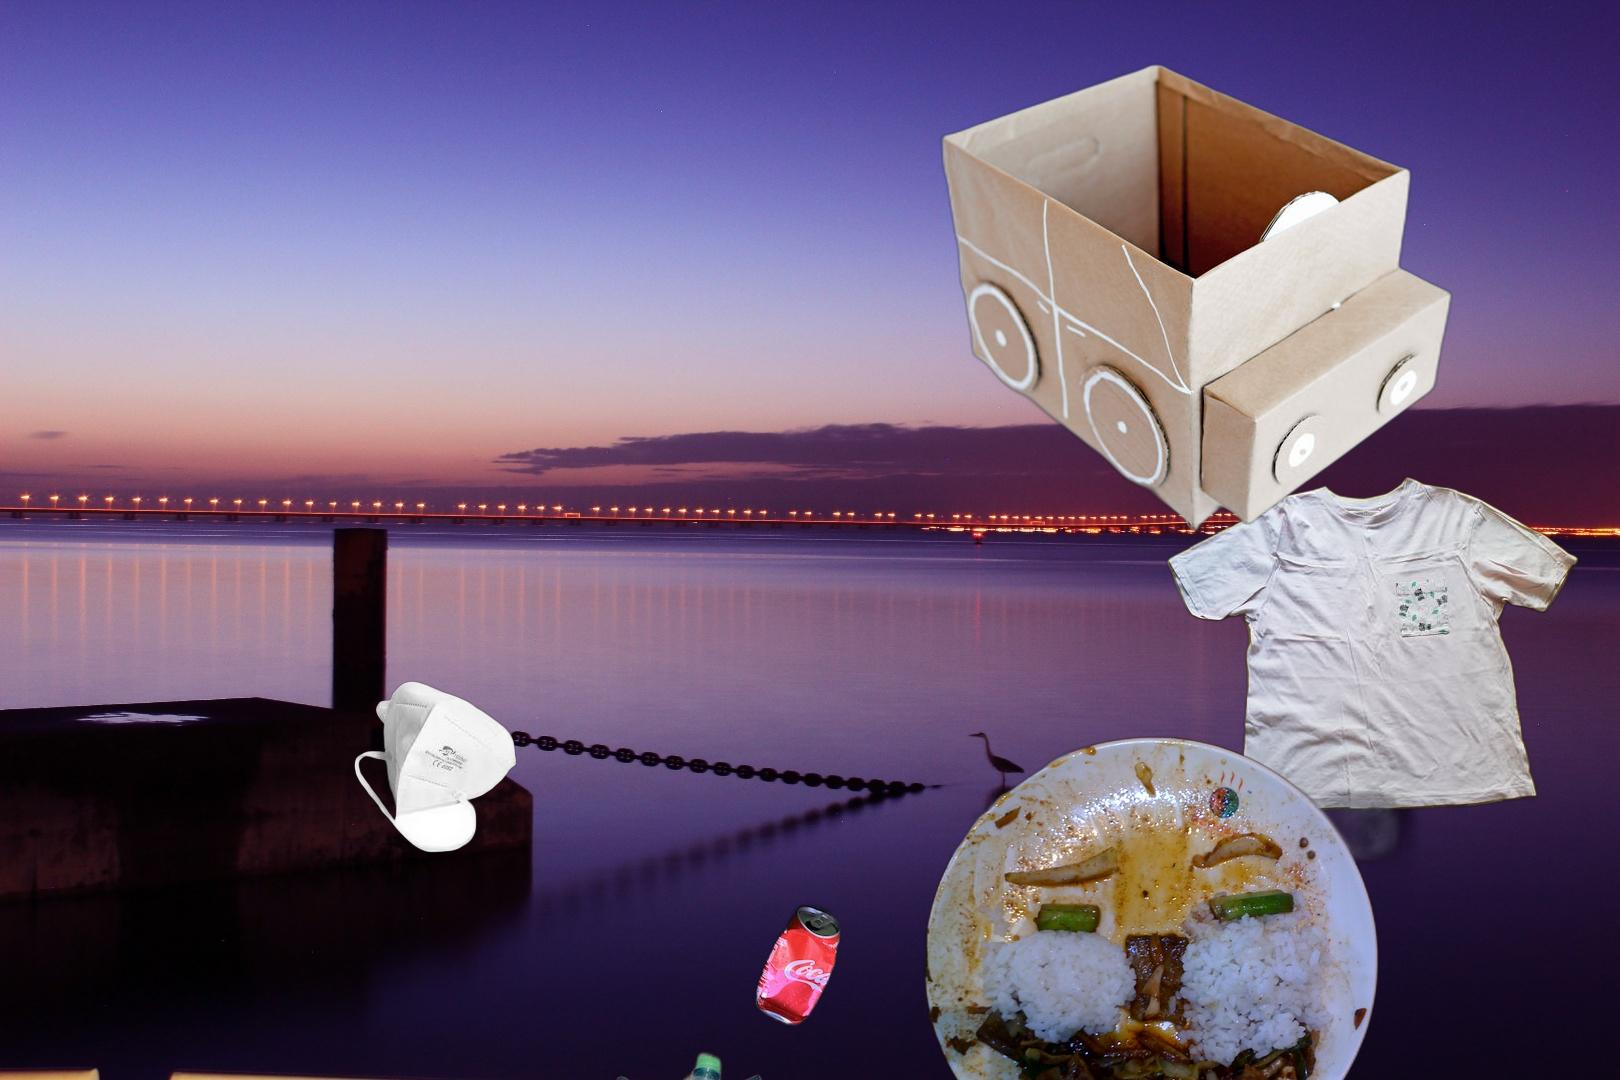biological: (920, 733, 1410, 1080)
clothes: (1163, 474, 1583, 816), (595, 1070, 914, 1080)
metal-cans: (752, 899, 845, 1032)
plastic-bottles: (612, 1019, 736, 1080)
trash: (352, 677, 518, 855)
trashbox-cardboard: (937, 59, 1458, 535)
